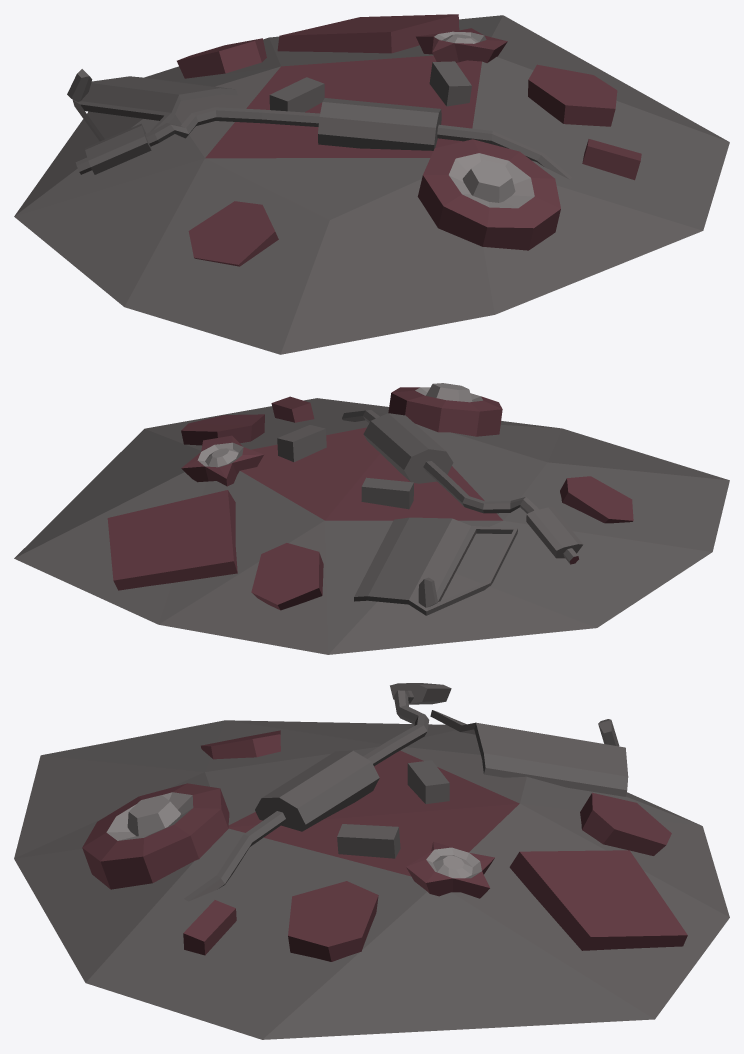
The model's file is rubble-concrete-apocalypse-e.fbx.
3 views of the same model, one above another, from view 1: azimuth 30°, elevation 25°; view 2: azimuth 150°, elevation 25°; view 3: azimuth 270°, elevation 25° (orthographic). The views are drawn at different scales.
Visible parts, largest first — view 1: rubble-concrete-apocalypse-e; view 2: rubble-concrete-apocalypse-e; view 3: rubble-concrete-apocalypse-e.
Part boxes in pixels (x1,y1,x2,y2): rubble-concrete-apocalypse-e: [14, 14, 729, 354]; rubble-concrete-apocalypse-e: [14, 383, 729, 654]; rubble-concrete-apocalypse-e: [14, 683, 729, 1039].
Size of the model in its own units: 5.34 by 0.799 by 5.06.
